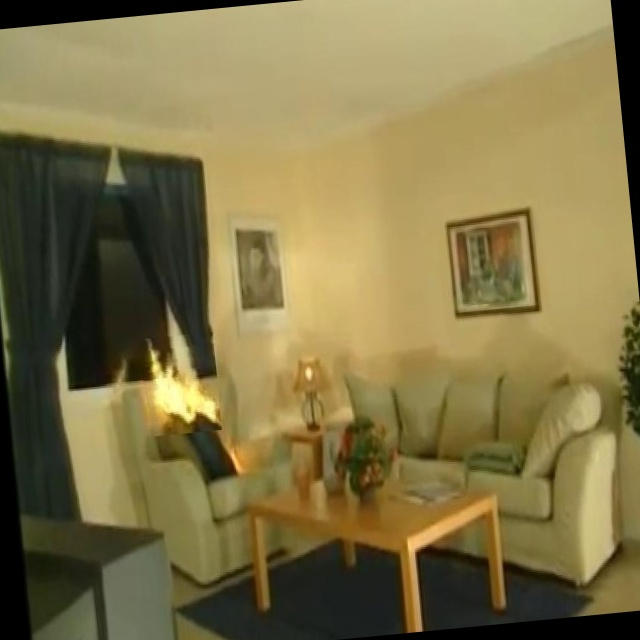fire: (125, 341, 217, 427)
